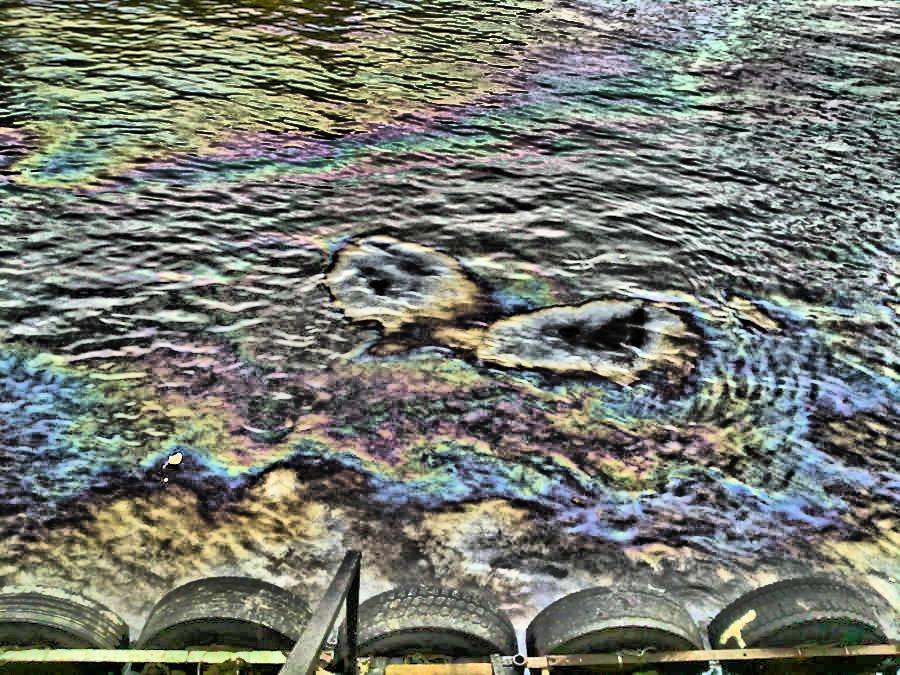rainbow: (0, 1, 900, 626)
